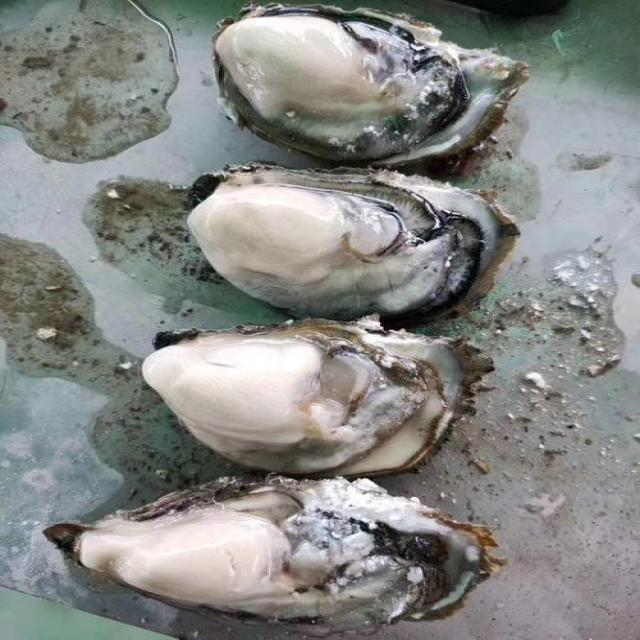Oyster-Open: (41, 469, 506, 640), (184, 162, 517, 326), (144, 317, 486, 476)
